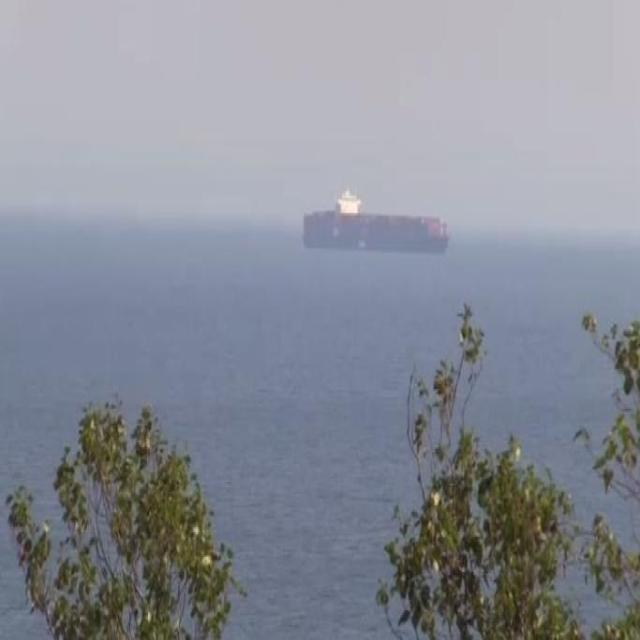cargoship: (302, 185, 449, 252)
